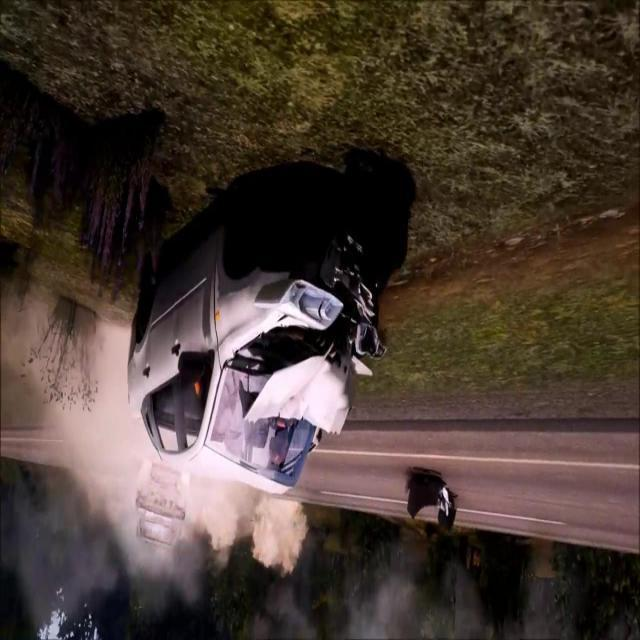severe: (122, 178, 391, 508)
